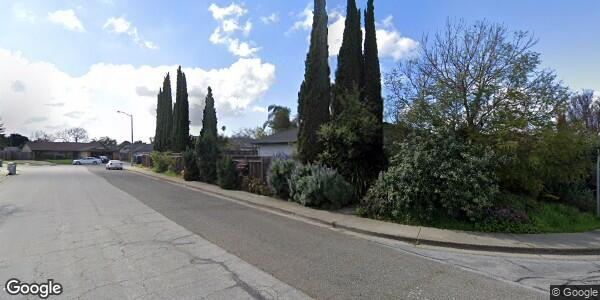Steel_Pole: (114, 108, 137, 168)
